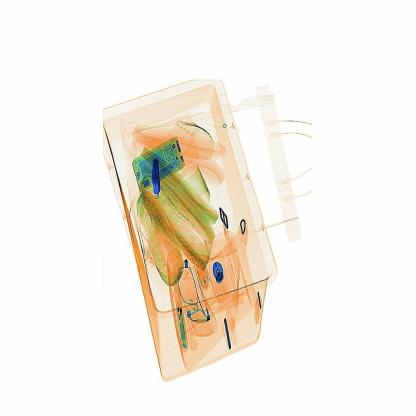knife: (145, 150, 168, 201)
